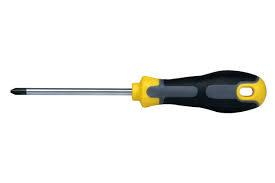screwdriver: (10, 69, 266, 113)
